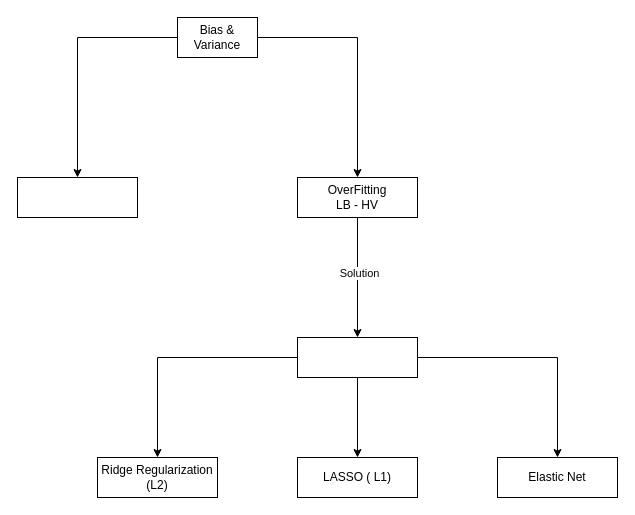
The diagram is 635 pixels wide and 515 high, and some of its shapes have lost their labels. Each missing label, with the centre of its shape:
"Regularization" goes at pixel 357 357.
"UnderFitting HB - LV" goes at pixel 77 197.
